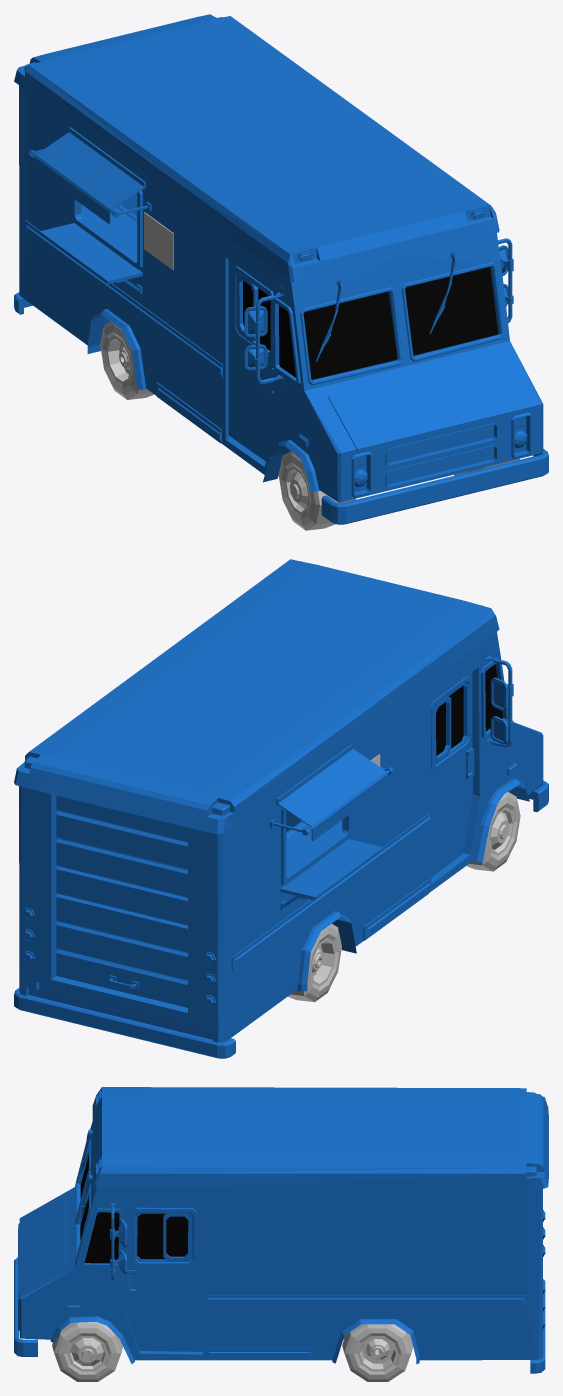
Rendered from HALF_food_truck.fbx.
3 views of the same model, one above another, from view 1: azimuth 30°, elevation 25°; view 2: azimuth 150°, elevation 25°; view 3: azimuth 270°, elevation 25° (orthographic). The views are drawn at different scales.
Visible parts, largest first — view 1: Symmetry_12, Cylinder_3, Cylinder_5; view 2: Symmetry_12, Cylinder_3, Cylinder_5; view 3: Symmetry_12, Cylinder_5, Cylinder_2.
Boxes of the visible parts, x1,y1,x2,y2 form: Symmetry_12: (14, 14, 548, 524); Cylinder_3: (278, 451, 355, 530); Cylinder_5: (100, 321, 154, 399); Symmetry_12: (14, 559, 548, 1058); Cylinder_3: (466, 792, 520, 871); Cylinder_5: (288, 924, 341, 1002); Symmetry_12: (14, 1087, 548, 1373); Cylinder_5: (342, 1324, 413, 1381); Cylinder_2: (52, 1321, 122, 1381).
Size of the model in its own units: 248 by 234 by 521.
